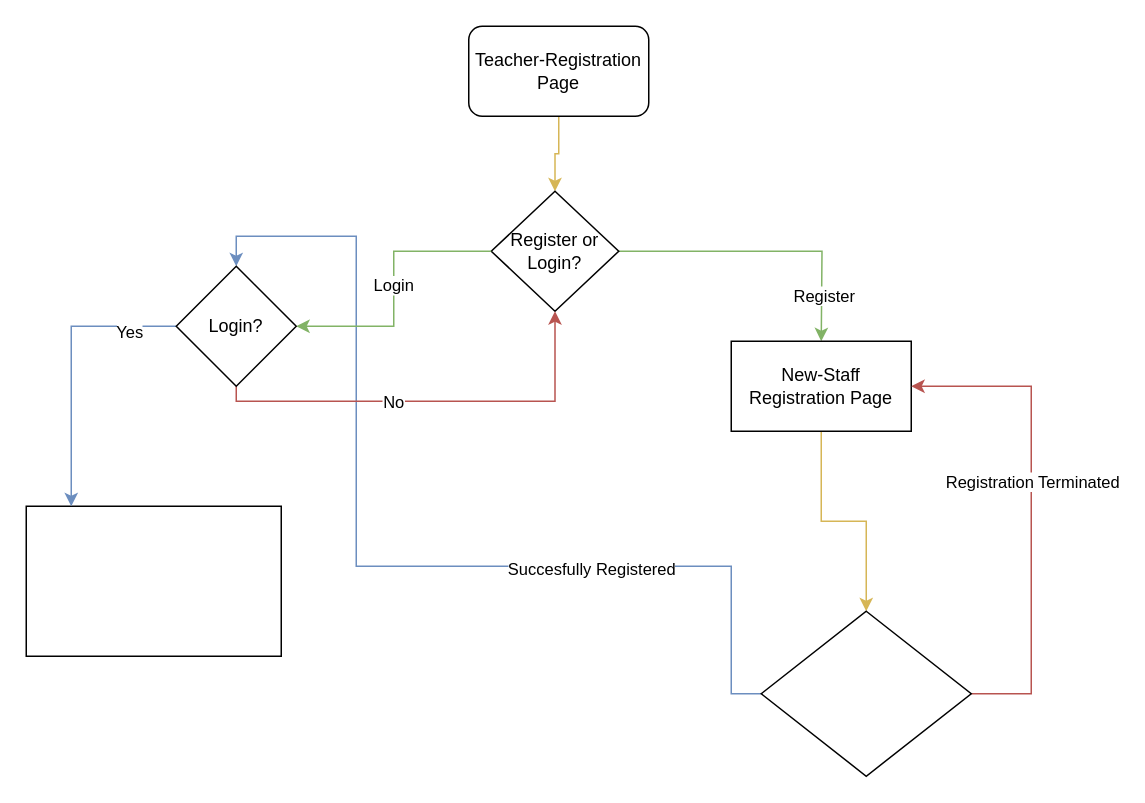
This 1145x803 diagram has some shape labels left out. The shapes that lost their labels are listed below. From the top down, each one's centre as x and y in pixels, then its label:
point 153,580: StaffHomepage
point 865,693: Registration Accepted By respective School?
